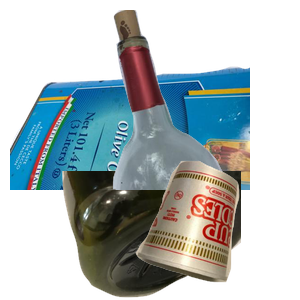glass: (89, 10, 300, 190)
metal: (10, 64, 250, 244)
plastic: (60, 171, 300, 300)
trash: (133, 158, 300, 300)
